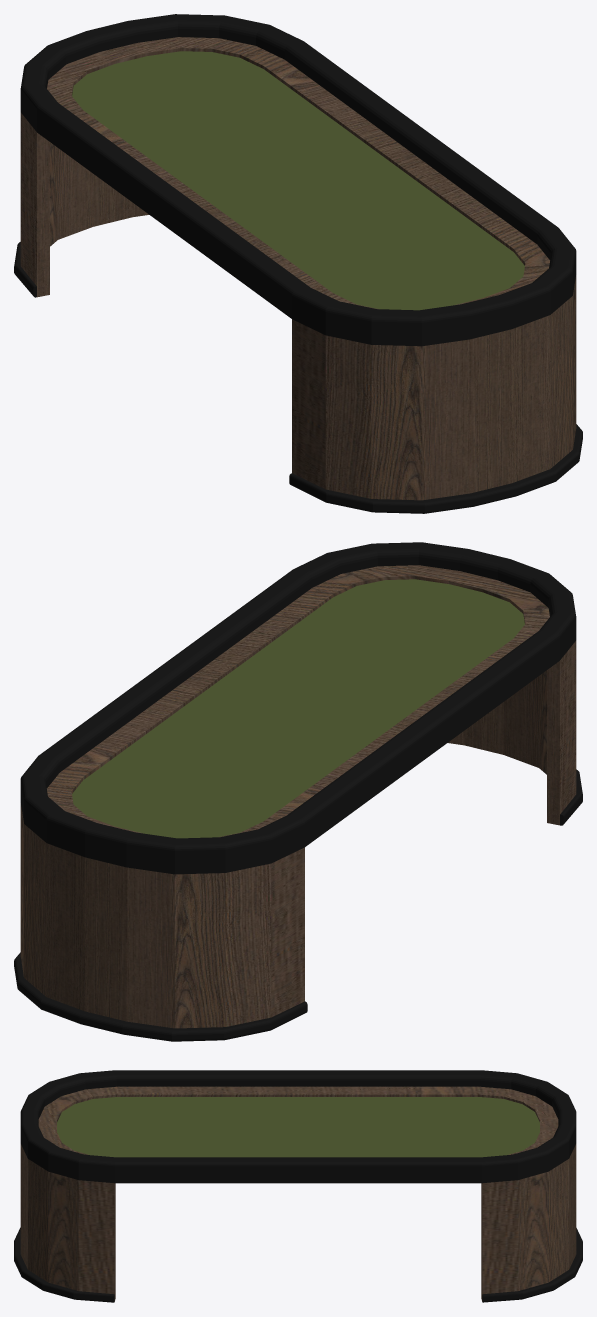
The model's file is poker table.fbx.
3 views of the same model, one above another, from view 1: azimuth 30°, elevation 25°; view 2: azimuth 150°, elevation 25°; view 3: azimuth 270°, elevation 25° (orthographic). The views are drawn at different scales.
Visible parts, largest first — view 1: Cube.001; view 2: Cube.001; view 3: Cube.001.
Boxes of the visible parts, left/top/right/bottom form: Cube.001: left=14, top=14, right=582, bottom=513; Cube.001: left=14, top=542, right=582, bottom=1041; Cube.001: left=14, top=1070, right=582, bottom=1302.
Size of the model in its own units: 683 by 457 by 1701.
3 materials, 1 textured.
